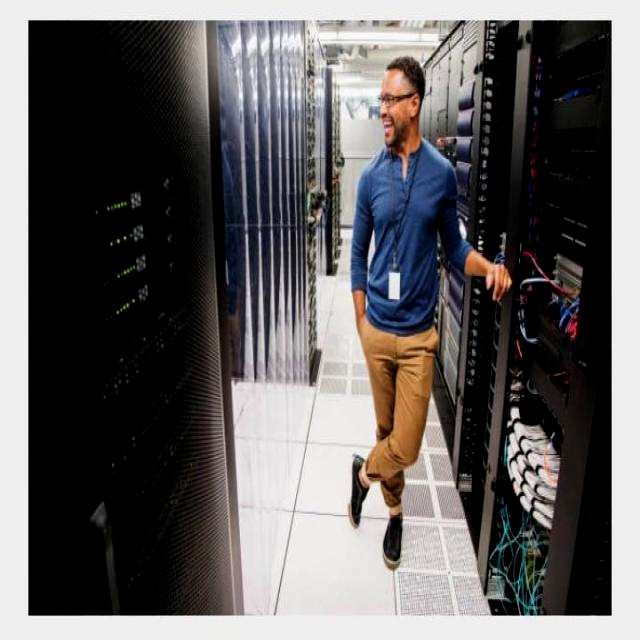ID_card: (378, 153, 424, 312)
